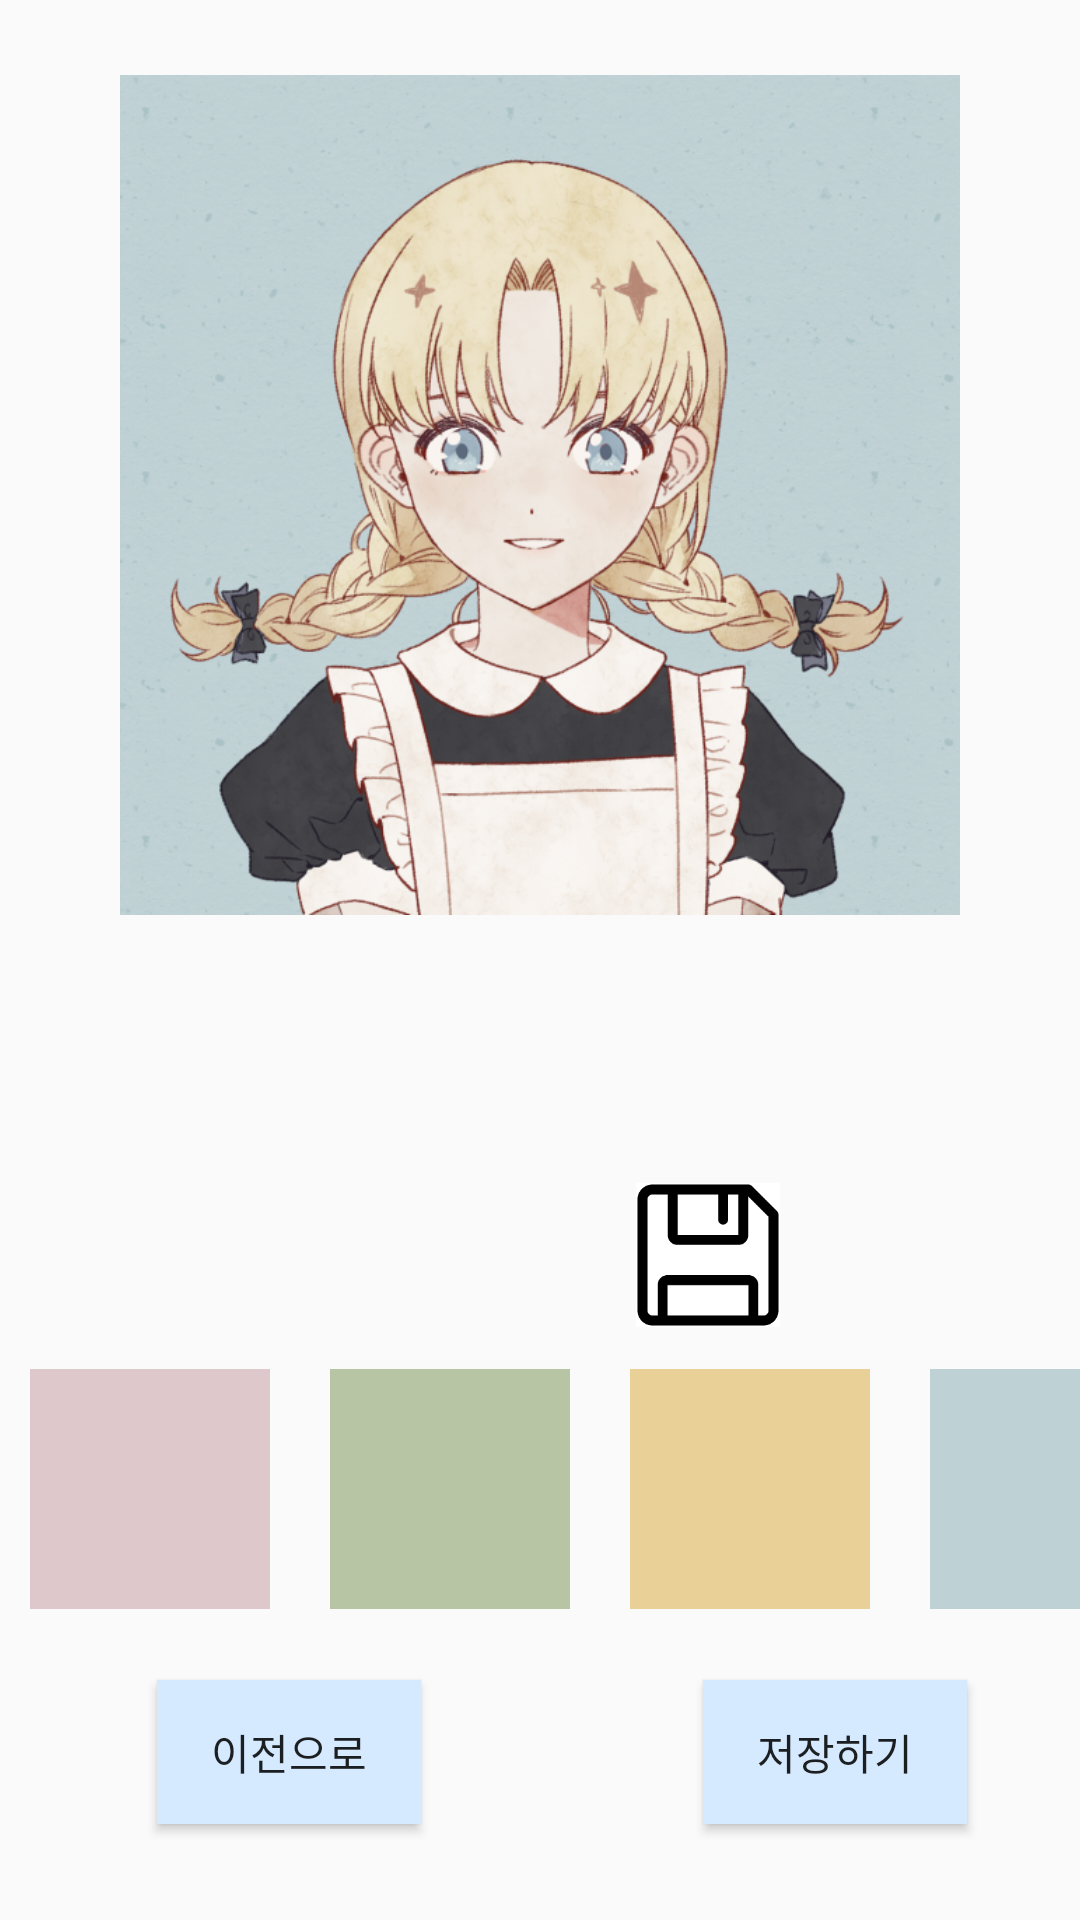

Icons on this 1080*1920 Android screen, each with the point to tap as (x=x, y=y):
save: (x=708, y=1255)
